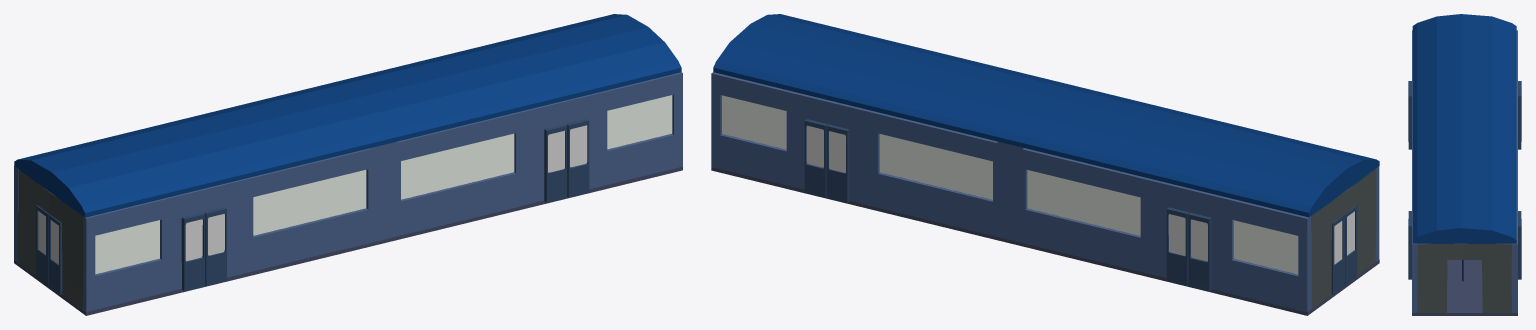
File: Train BG.fbx
The picture shows the model from 3 angles, left to right: view 1: azimuth 30°, elevation 25°; view 2: azimuth 150°, elevation 25°; view 3: azimuth 270°, elevation 25°; orthographic projection. The views are drawn at different scales.
Parts seen in each view (by area): view 1: Atap, Tembok.004, Tembok.005, Kaca Gede.002, Kaca Gede.003, Tembok.003, Lantai, Kaca Kecil.002, Kaca Kecil.003, Pintu(bg).004, Pintu(bg).008, Pintu(bg).007 (+8 smaller); view 2: Atap, Tembok, Tembok.001, Kaca Gede, Kaca Gede.001, Tembok.003, Kaca Kecil.001, Kaca Kecil, Lantai, Pintu(bg).001, Pintu(bg).005, Pintu(bg).002 (+7 smaller); view 3: Atap, Tembok.2, Lantai, Tembok.001, Tembok.005, Pintu(bg).002, Pintu(bg).003, Pintu(bg).006, Pintu(bg).007, Tembok, Tembok.004.
Boxes of the visible parts, x1,y1,x2,y2 form: Atap: [14, 14, 681, 217]; Tembok.004: [82, 146, 384, 311]; Tembok.005: [380, 72, 682, 239]; Kaca Gede.002: [253, 170, 366, 235]; Kaca Gede.003: [401, 133, 514, 199]; Tembok.003: [18, 169, 83, 308]; Lantai: [14, 166, 682, 315]; Kaca Kecil.002: [607, 95, 672, 149]; Kaca Kecil.003: [95, 220, 159, 274]; Pintu(bg).004: [181, 212, 205, 291]; Pintu(bg).008: [544, 124, 567, 202]; Pintu(bg).007: [566, 119, 589, 197]; Atap: [713, 14, 1379, 217]; Tembok: [1009, 145, 1311, 312]; Tembok.001: [711, 72, 1013, 239]; Kaca Gede: [1027, 170, 1140, 235]; Kaca Gede.001: [879, 134, 992, 199]; Tembok.003: [1311, 168, 1376, 308]; Kaca Kecil.001: [1233, 220, 1298, 274]; Kaca Kecil: [722, 95, 786, 149]; Lantai: [711, 167, 1379, 315]; Pintu(bg).001: [1188, 212, 1211, 291]; Pintu(bg).005: [826, 124, 849, 203]; Pintu(bg).002: [1166, 207, 1189, 285]; Atap: [1412, 14, 1516, 243]; Tembok.2: [1417, 243, 1511, 312]; Lantai: [1412, 260, 1517, 315]; Tembok.001: [1511, 142, 1517, 312]; Tembok.005: [1412, 142, 1417, 312]; Pintu(bg).002: [1518, 88, 1521, 149]; Pintu(bg).003: [1518, 218, 1521, 279]; Pintu(bg).006: [1408, 88, 1411, 149]; Pintu(bg).007: [1408, 218, 1411, 279]; Tembok: [1516, 30, 1517, 141]; Tembok.004: [1412, 30, 1412, 141].
Bounding box in the file's own units: 5273 × 1002 × 1174.
